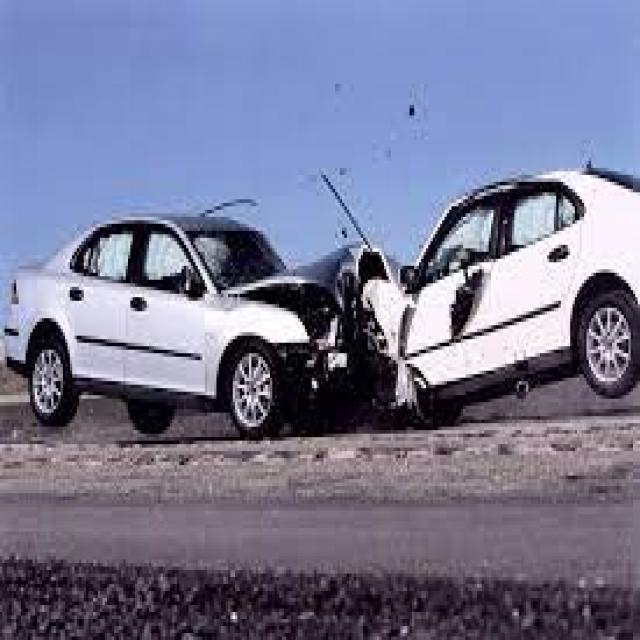accident: (0, 138, 640, 416)
